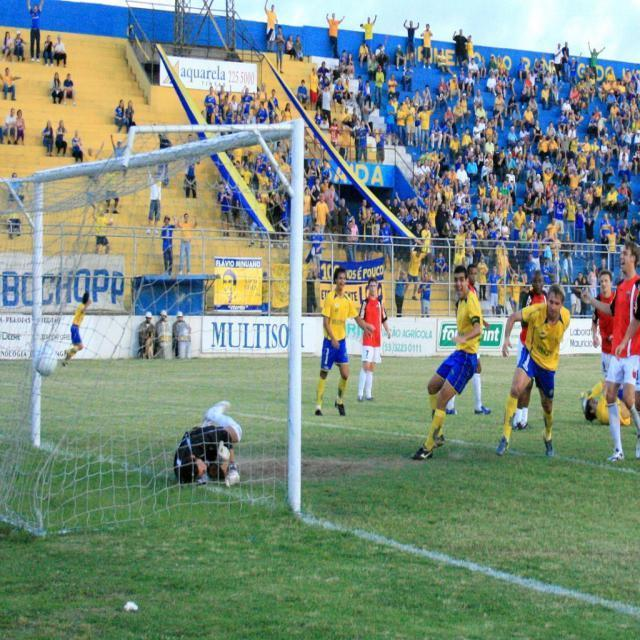football: (32, 342, 73, 381)
